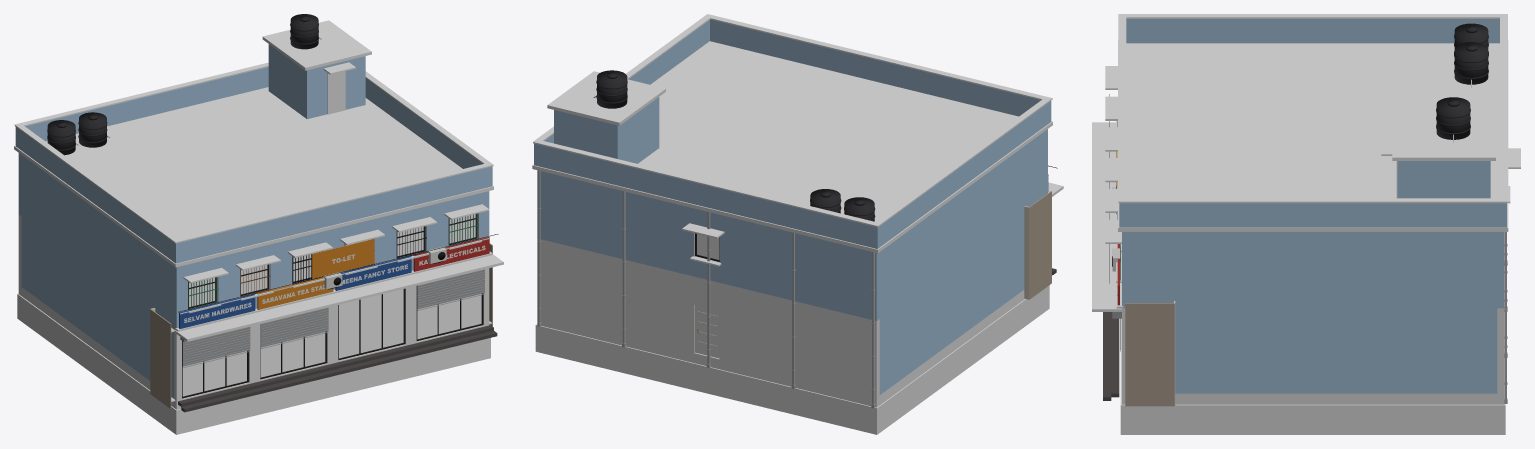
File: commercial_16x14_2.glb
The picture shows the model from 3 angles, left to right: view 1: azimuth 30°, elevation 25°; view 2: azimuth 150°, elevation 25°; view 3: azimuth 270°, elevation 25°; orthographic projection. The views are drawn at different scales.
Parts seen in each view (by area): view 1: commercial_16x14_2; view 2: commercial_16x14_2; view 3: commercial_16x14_2.
Part boxes in pixels (x1=…): commercial_16x14_2: x1=14, y1=14, x2=503, y2=434; commercial_16x14_2: x1=532, y1=14, x2=1063, y2=434; commercial_16x14_2: x1=1092, y1=14, x2=1520, y2=434.
Size of the model in its own units: 16.5 by 12.3 by 15.71.
